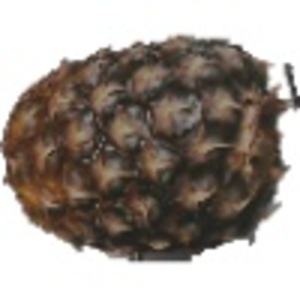abacaxi: (1, 32, 287, 256)
